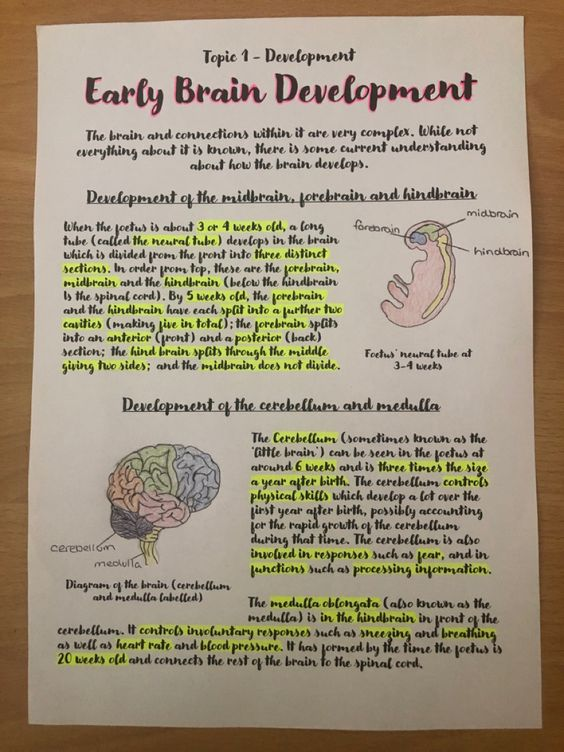page: (39, 27, 527, 720)
